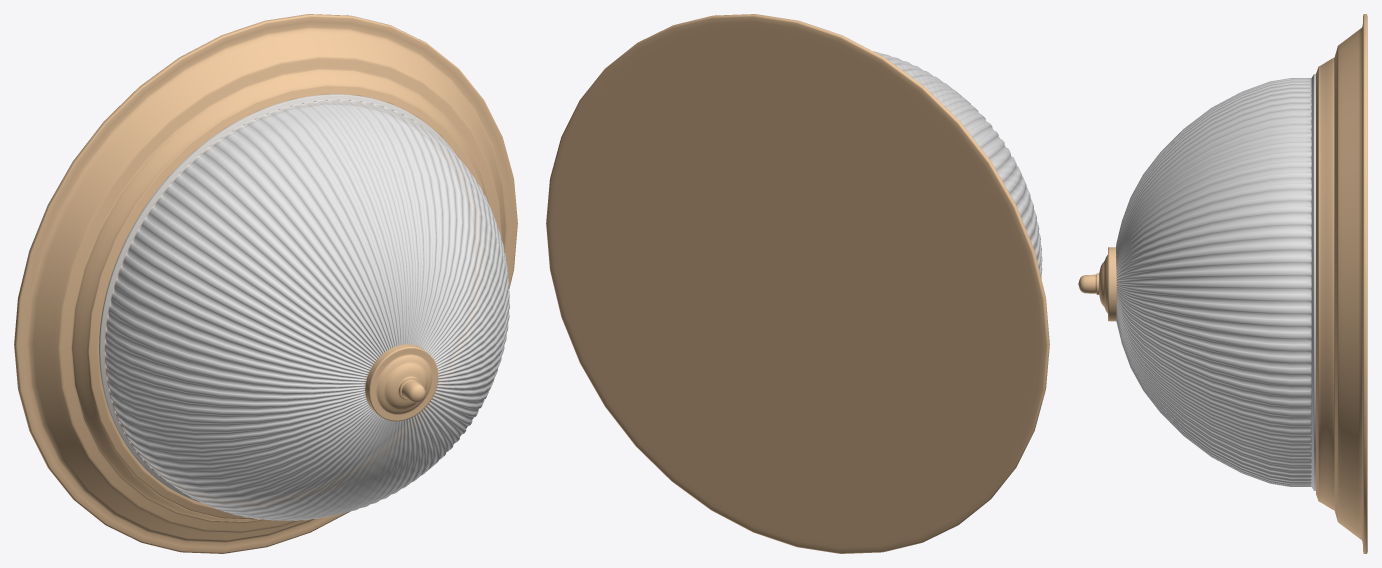
File: 11822_ceiling_fixture_v1_l2.obj
3 views of the same model, side by side, from view 1: azimuth 30°, elevation 25°; view 2: azimuth 150°, elevation 25°; view 3: azimuth 270°, elevation 25° (orthographic). The views are drawn at different scales.
Visible parts, largest first — view 1: ceiling_fixture_1, ceiling_fixture_2, ceiling_fixture_3; view 2: ceiling_fixture_2, ceiling_fixture_1; view 3: ceiling_fixture_1, ceiling_fixture_2, ceiling_fixture_3.
Boxes of the visible parts, x1=… form: ceiling_fixture_1: x1=99, y1=94, x2=509, y2=520; ceiling_fixture_2: x1=14, y1=14, x2=517, y2=553; ceiling_fixture_3: x1=365, y1=344, x2=438, y2=421; ceiling_fixture_2: x1=546, y1=14, x2=1049, y2=553; ceiling_fixture_1: x1=873, y1=51, x2=1042, y2=278; ceiling_fixture_1: x1=1116, y1=74, x2=1315, y2=490; ceiling_fixture_2: x1=1316, y1=14, x2=1367, y2=553; ceiling_fixture_3: x1=1078, y1=247, x2=1116, y2=321.
Size of the model in its own units: 20.2 by 20.19 by 10.78.
